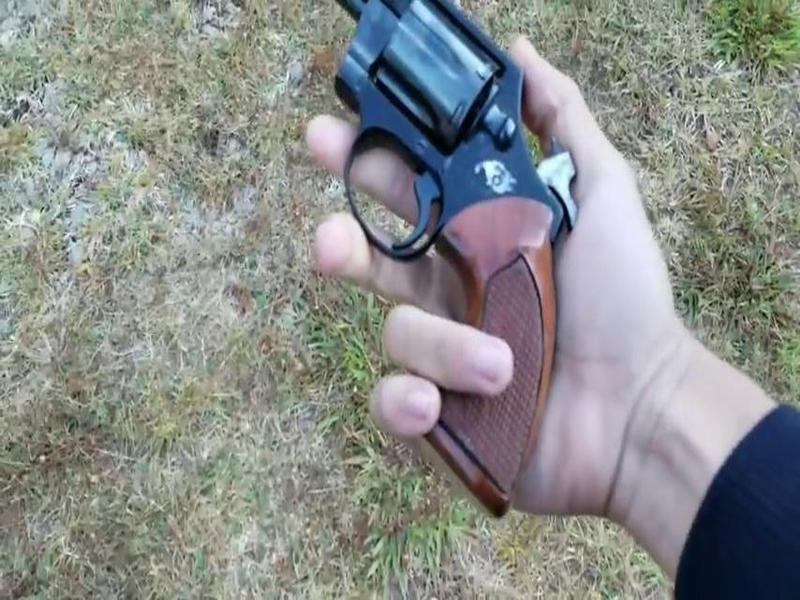Revolver: (291, 11, 600, 531)
